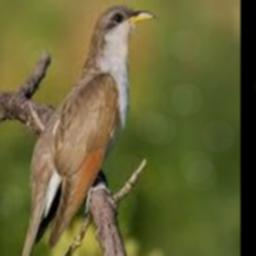Cuckoo: (6, 5, 156, 256)
